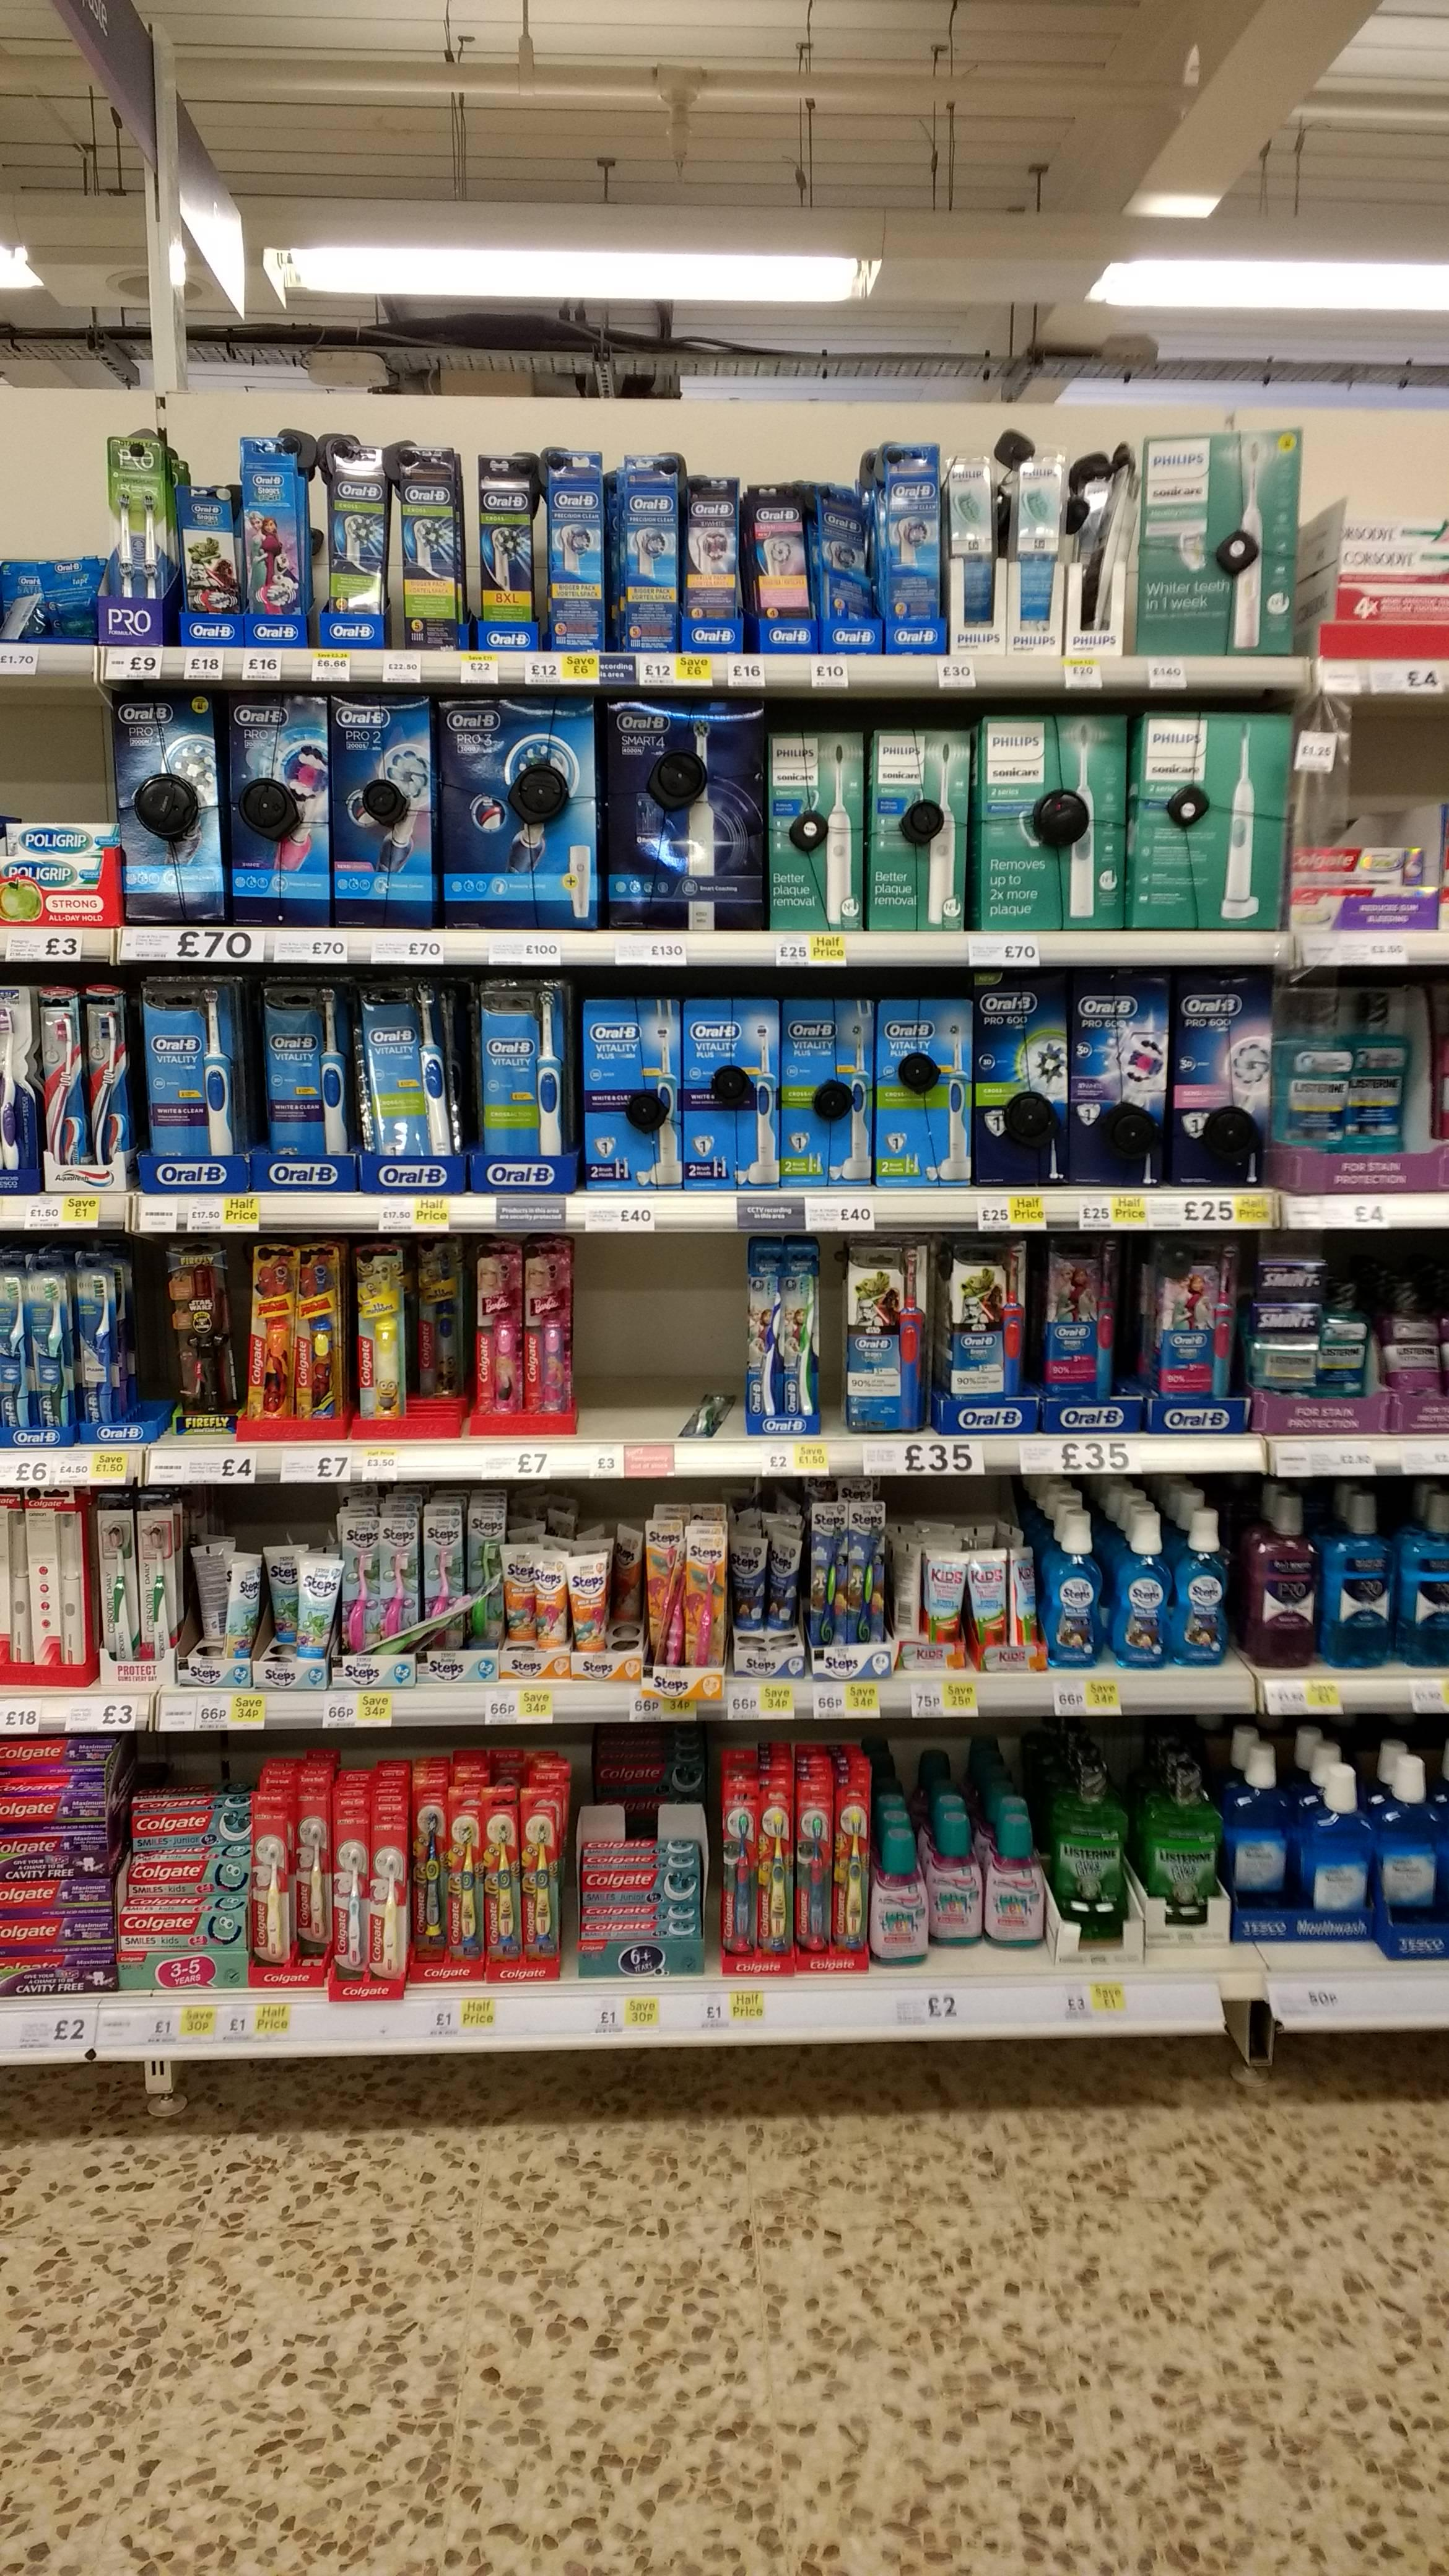misalignment: (349, 1557, 506, 1661), (1081, 444, 1143, 632), (810, 492, 879, 632), (665, 1373, 740, 1444), (182, 1537, 232, 1640), (288, 1559, 334, 1658), (529, 1552, 570, 1651), (610, 1522, 646, 1626), (226, 1560, 264, 1660), (1010, 1545, 1042, 1652), (768, 1536, 803, 1626), (888, 1543, 920, 1640), (7, 587, 55, 639)
